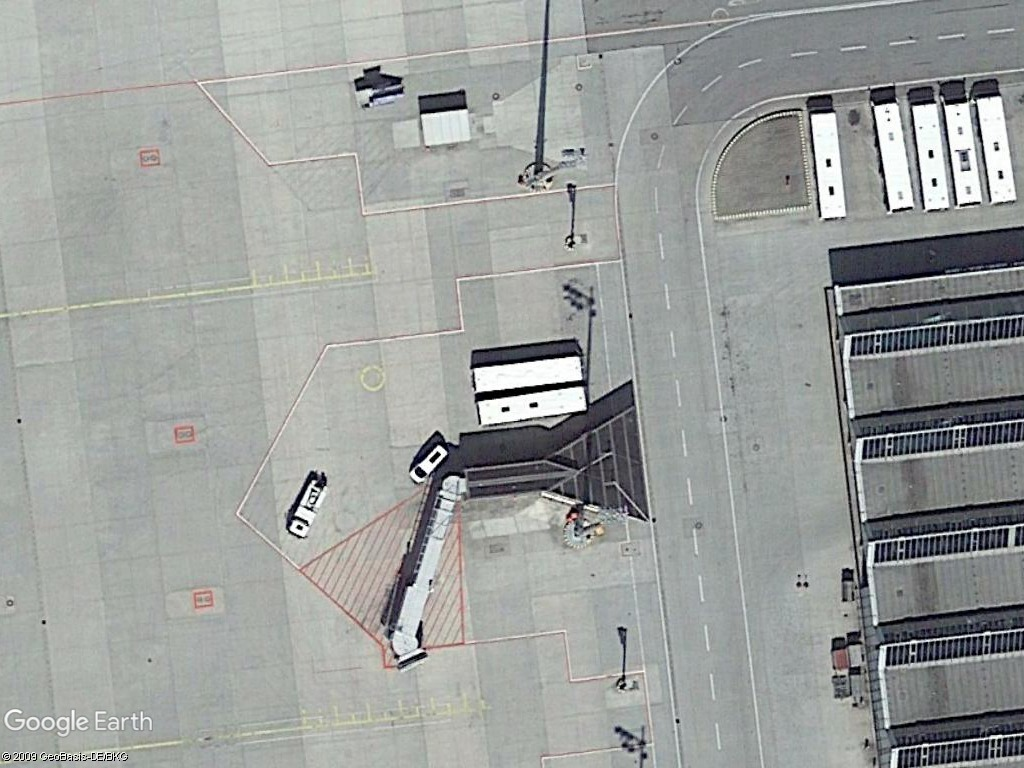bus: (472, 380, 593, 429), (868, 91, 915, 217), (465, 352, 589, 398), (806, 106, 854, 224), (939, 93, 985, 211), (973, 90, 1016, 209), (910, 95, 949, 213)
van: (404, 442, 451, 488)
